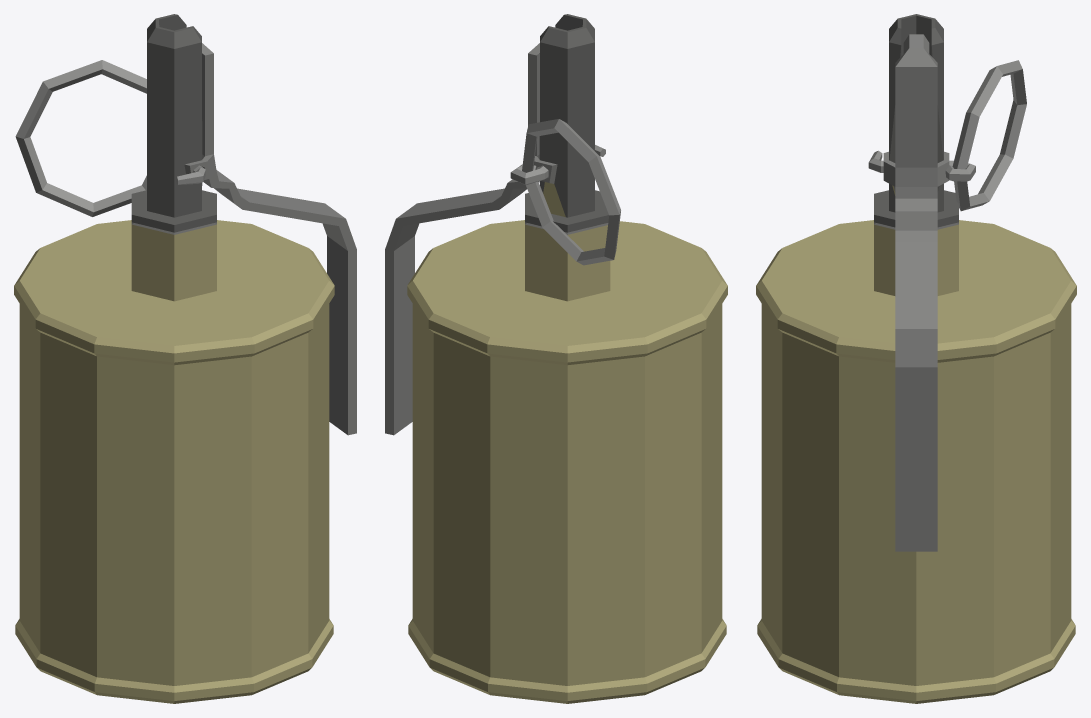
Rendered from SM_Bomb_08.fbx.
The picture shows the model from 3 angles, left to right: view 1: azimuth 30°, elevation 25°; view 2: azimuth 150°, elevation 25°; view 3: azimuth 270°, elevation 25°; orthographic projection.
Visible parts, largest first — view 1: SM_Bomb_08; view 2: SM_Bomb_08; view 3: SM_Bomb_08.
Part boxes in pixels (bbox=[...]): SM_Bomb_08: bbox=[14, 14, 356, 703]; SM_Bomb_08: bbox=[385, 14, 727, 703]; SM_Bomb_08: bbox=[756, 14, 1076, 703].
Bounding box in the file's own units: 3.56 × 6.73 × 3.18.
Materials: 1 (1 with a texture image).
